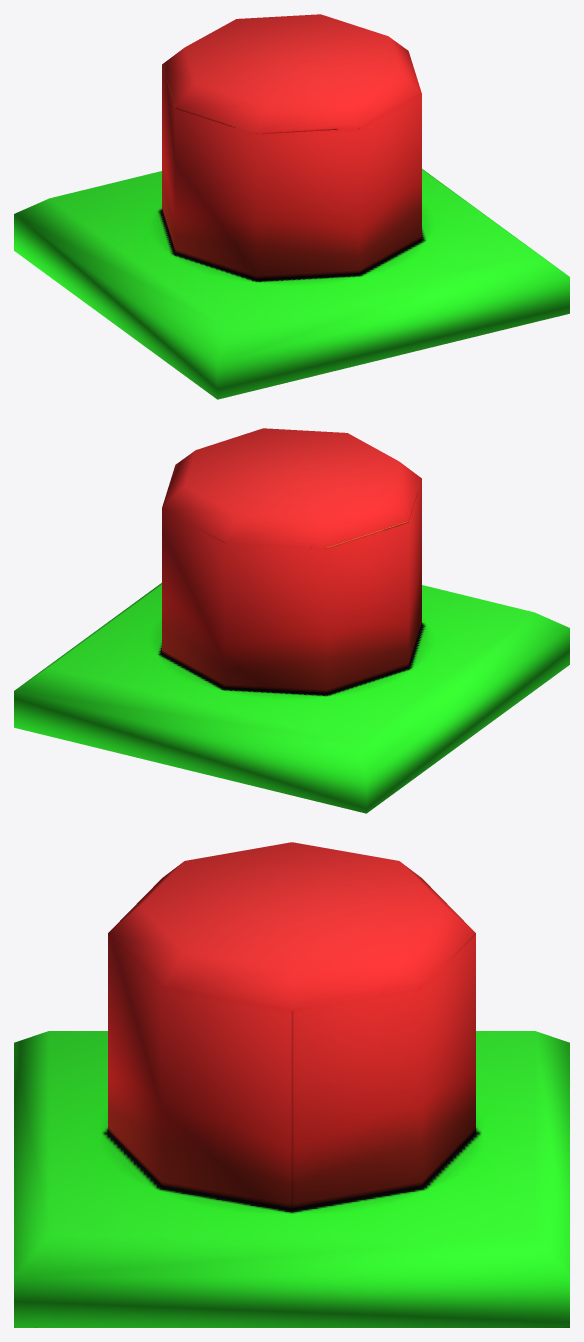
File: Switch.fbx
3 renders of one model, top to bottom at view 1: azimuth 30°, elevation 25°; view 2: azimuth 150°, elevation 25°; view 3: azimuth 270°, elevation 25°, orthographic. The views are drawn at different scales.
Visible parts, largest first — view 1: Cylinder, SwitchPlatform; view 2: Cylinder, SwitchPlatform; view 3: Cylinder, SwitchPlatform.
Part boxes in pixels (bbox=[...]): Cylinder: bbox=[162, 14, 421, 280]; SwitchPlatform: bbox=[14, 169, 569, 399]; Cylinder: bbox=[162, 428, 421, 694]; SwitchPlatform: bbox=[14, 583, 569, 813]; Cylinder: bbox=[108, 842, 475, 1210]; SwitchPlatform: bbox=[14, 1031, 569, 1327].
Size of the model in its own units: 120 by 72.14 by 120.
Materials: 1 (1 with a texture image).
